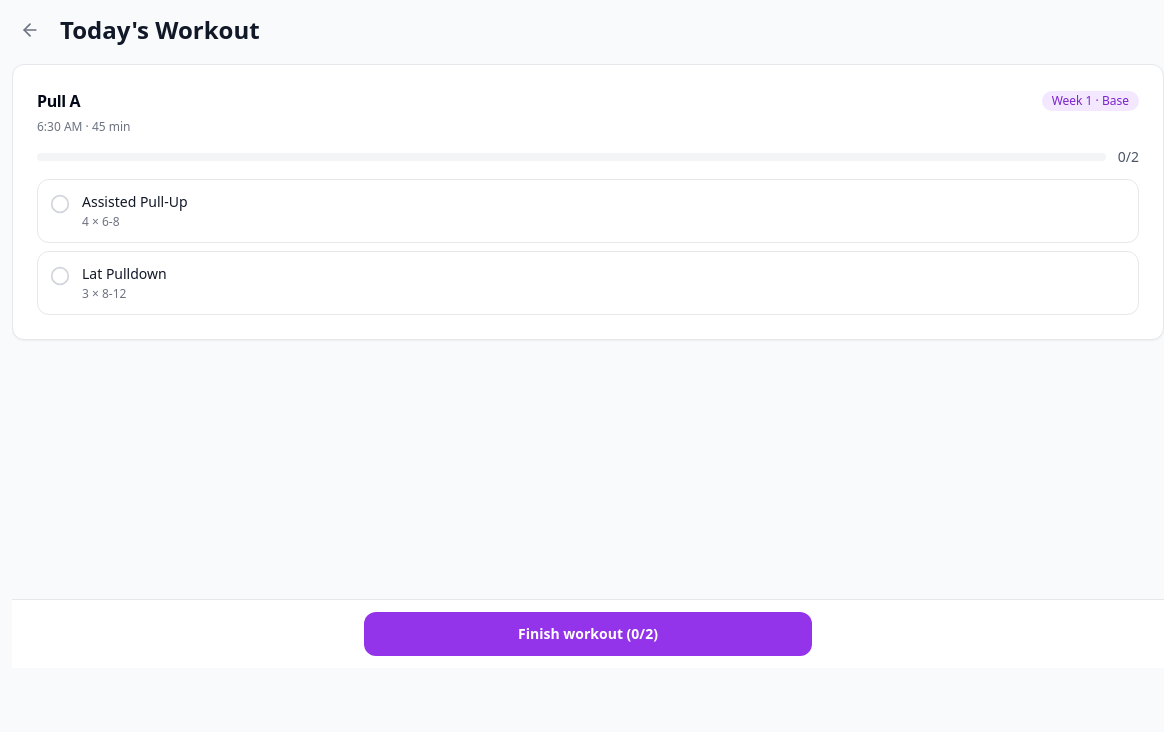
it: TodaysWorkoutSession › shows the all-done label once every item is checked
The width and height of the screenshot is (1164, 732).
Click the text "Assisted Pull-Up".
click(135, 202)  # box [82,192,188,212]
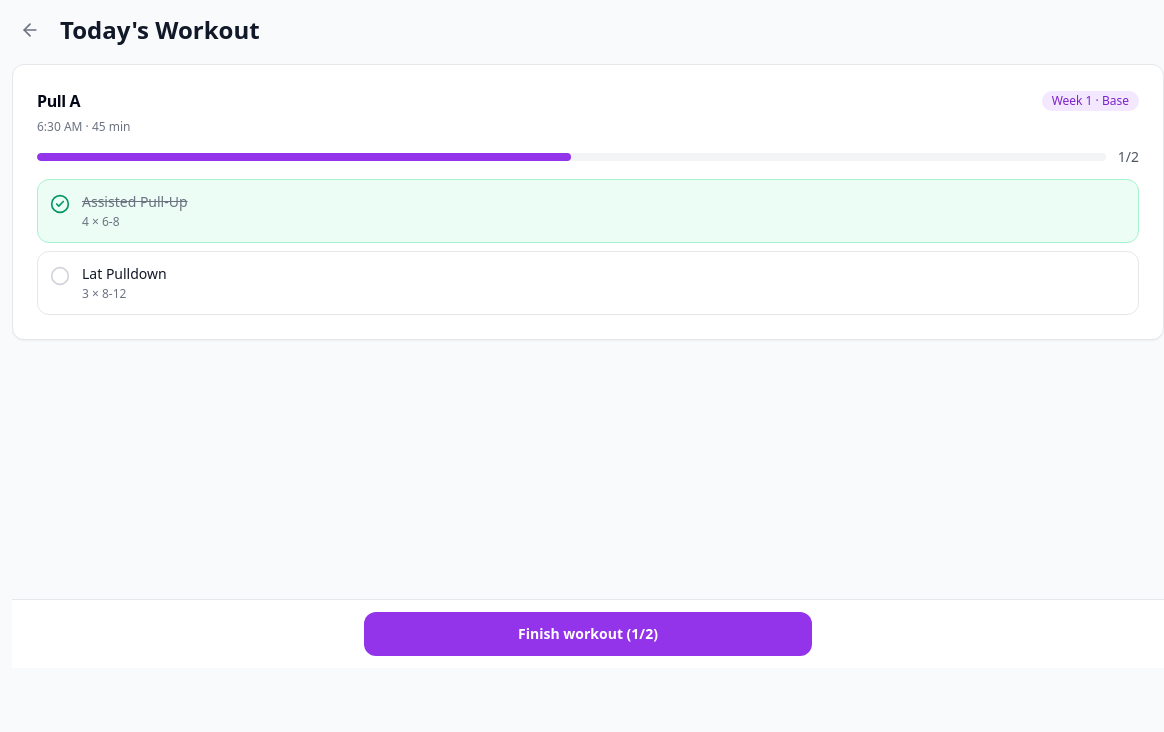
Click the text "Lat Pulldown".
click(124, 274)  # box [82,264,167,284]
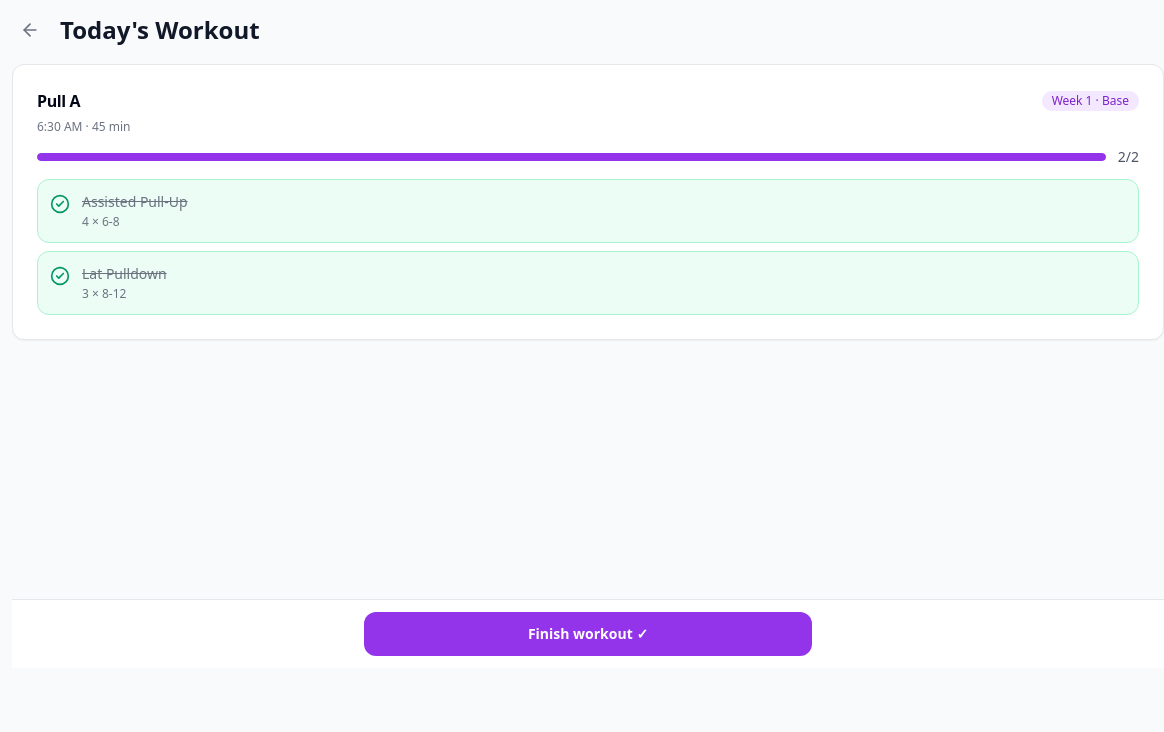
Now the button "Finish workout ✓" is shown, box [364,612,812,656]
